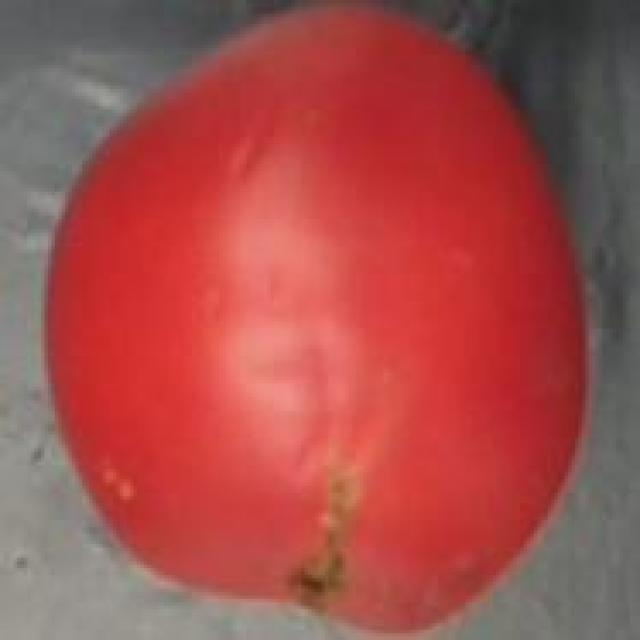overripe tomato: (34, 0, 596, 640)
